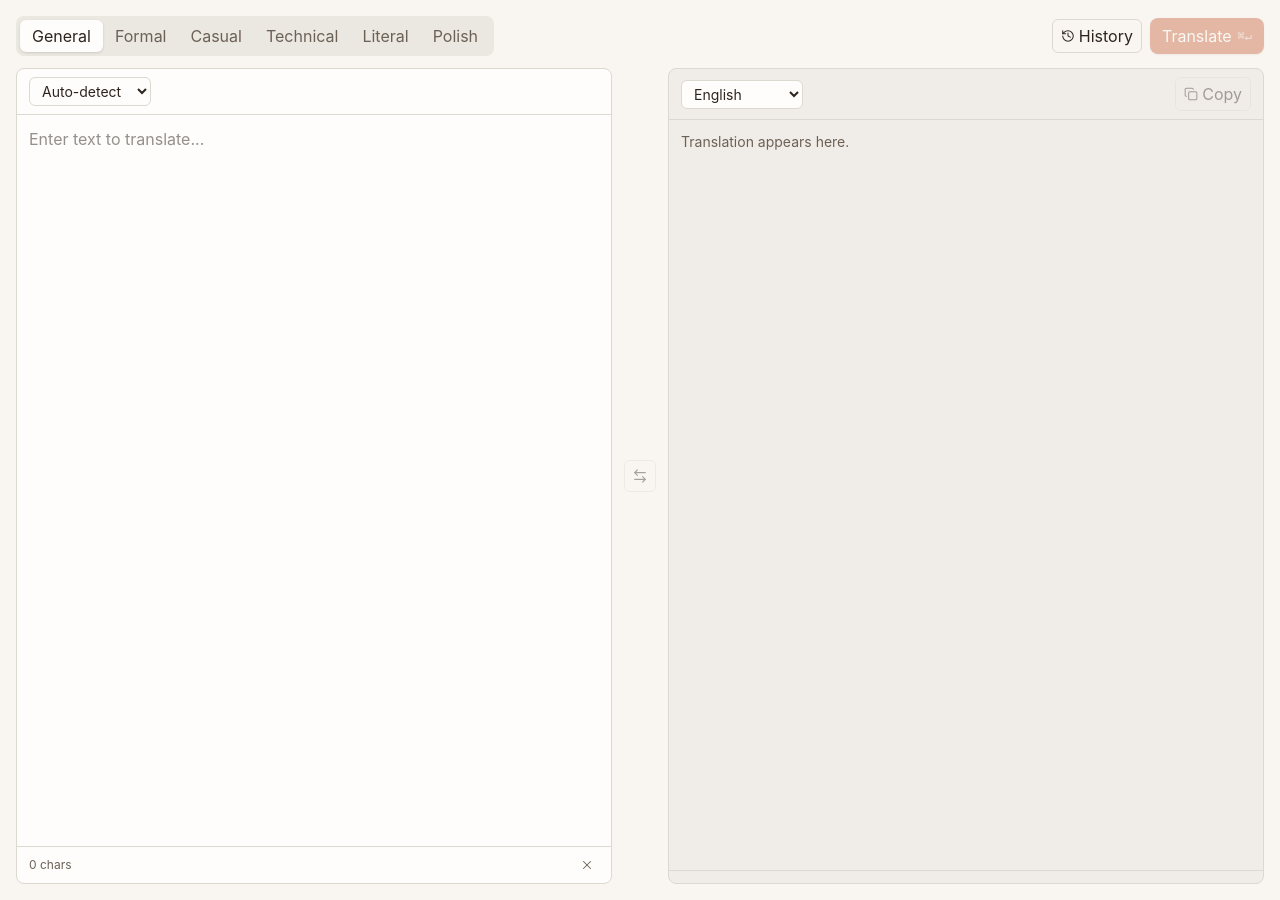
TranslateTool › streams a translation into the output pane
The width and height of the screenshot is (1280, 900).
Type "你好" into the text box named "Translate input" at (314, 480), box [17,115,611,846]
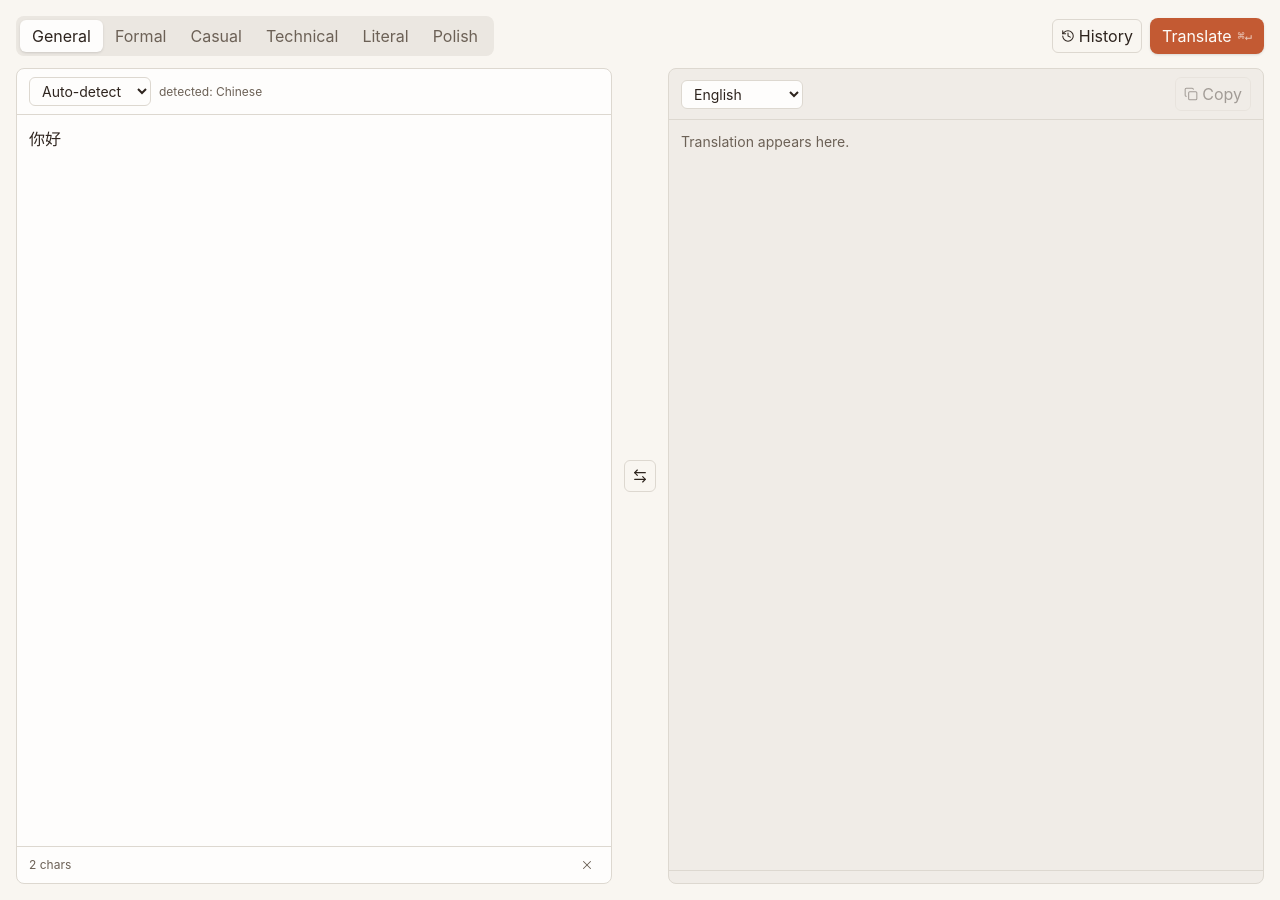
Click the button "Translate ⌘↵" at (1207, 36), box [1150,18,1264,54]
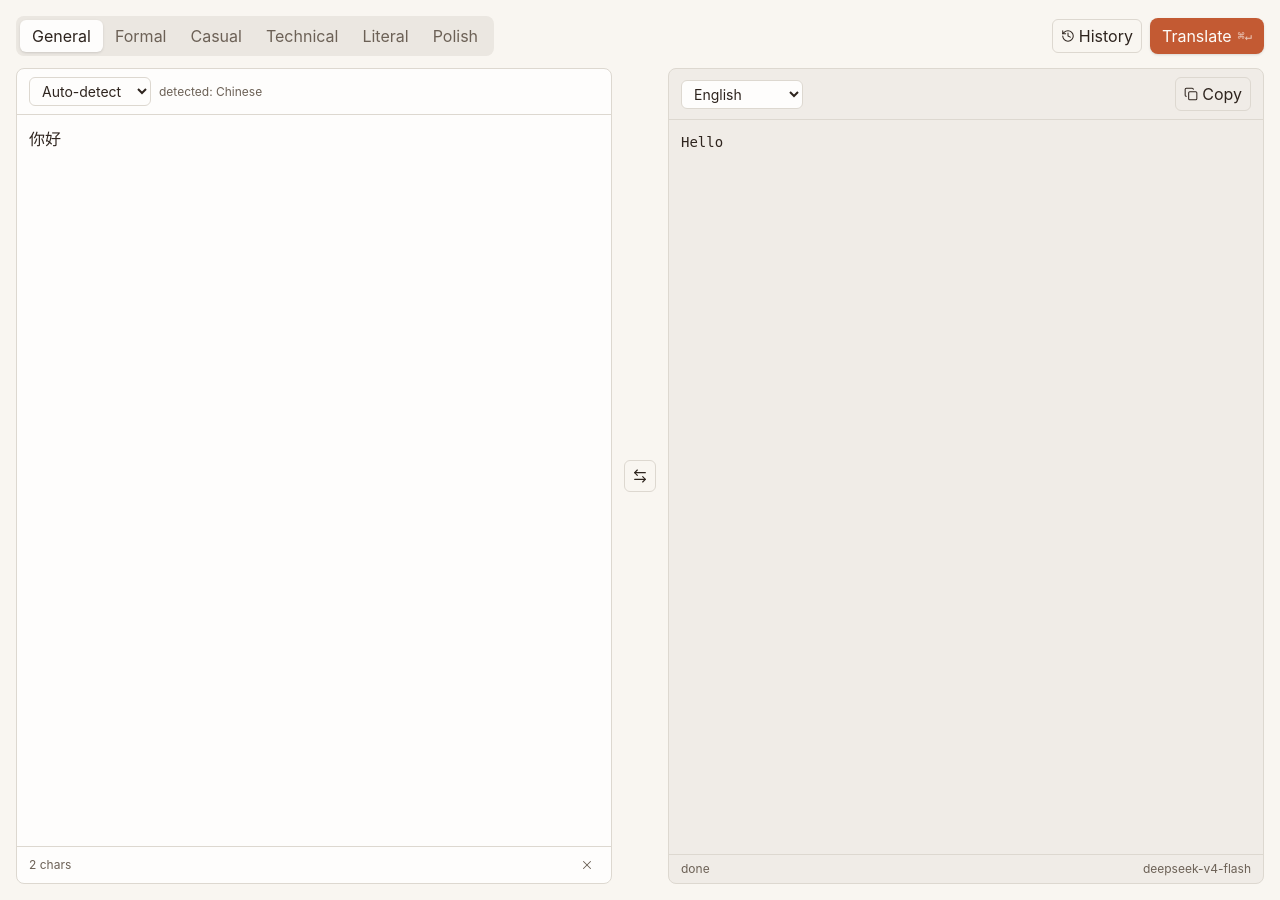
Check: the text "Hello" is shown, box [681,134,723,150]
Check: the text "done" is shown, box [681,861,710,877]
Check: the text "deepseek-v4-flash" is shown, box [1143,861,1251,877]
